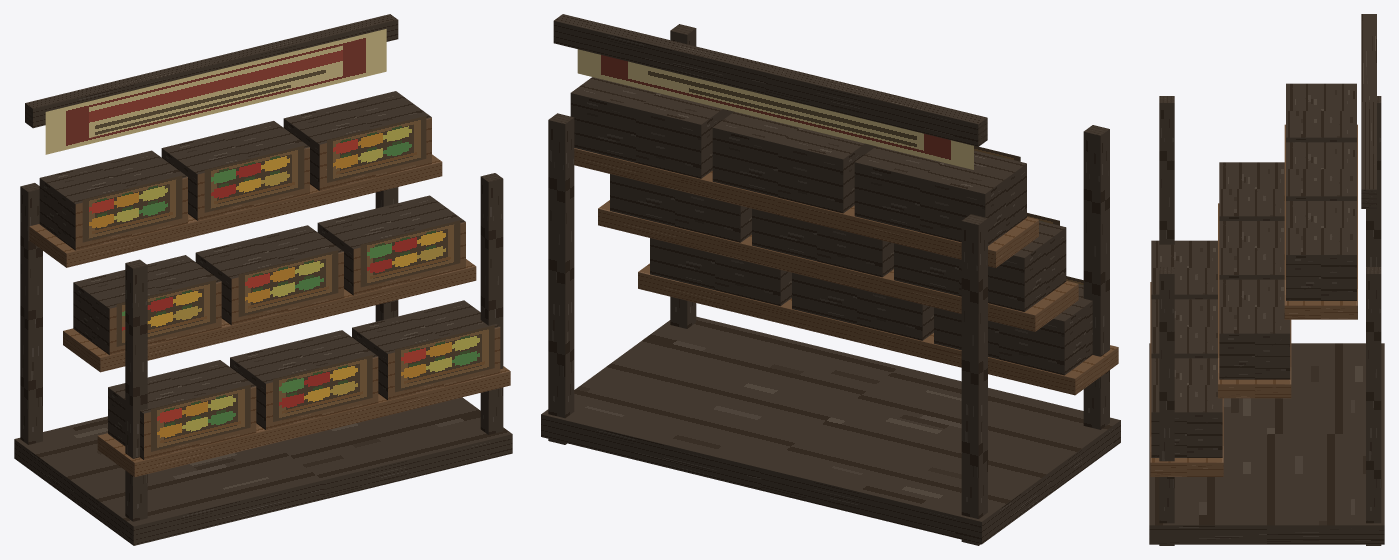
File: exhibidor_frutas_c02.glb
3 renders of one model, left to right at view 1: azimuth 30°, elevation 25°; view 2: azimuth 150°, elevation 25°; view 3: azimuth 270°, elevation 25°, orthographic. The views are drawn at different scales.
Parts seen in each view (by area): view 1: exhibidor_frutas_c02; view 2: exhibidor_frutas_c02; view 3: exhibidor_frutas_c02.
Boxes of the visible parts, box(x1,y1,x2,y2) form: exhibidor_frutas_c02: box(14, 14, 512, 545); exhibidor_frutas_c02: box(541, 14, 1120, 545); exhibidor_frutas_c02: box(1149, 14, 1384, 545).
Bounding box in the file's own units: 1.18 × 1.07 × 0.6462.
Materials: 1 (1 with a texture image).
